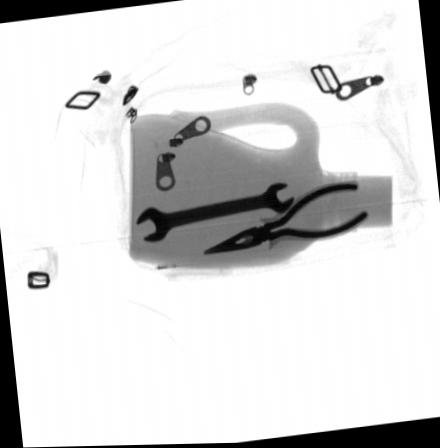Pliers: (201, 181, 369, 255)
Wrench: (135, 180, 293, 240)
